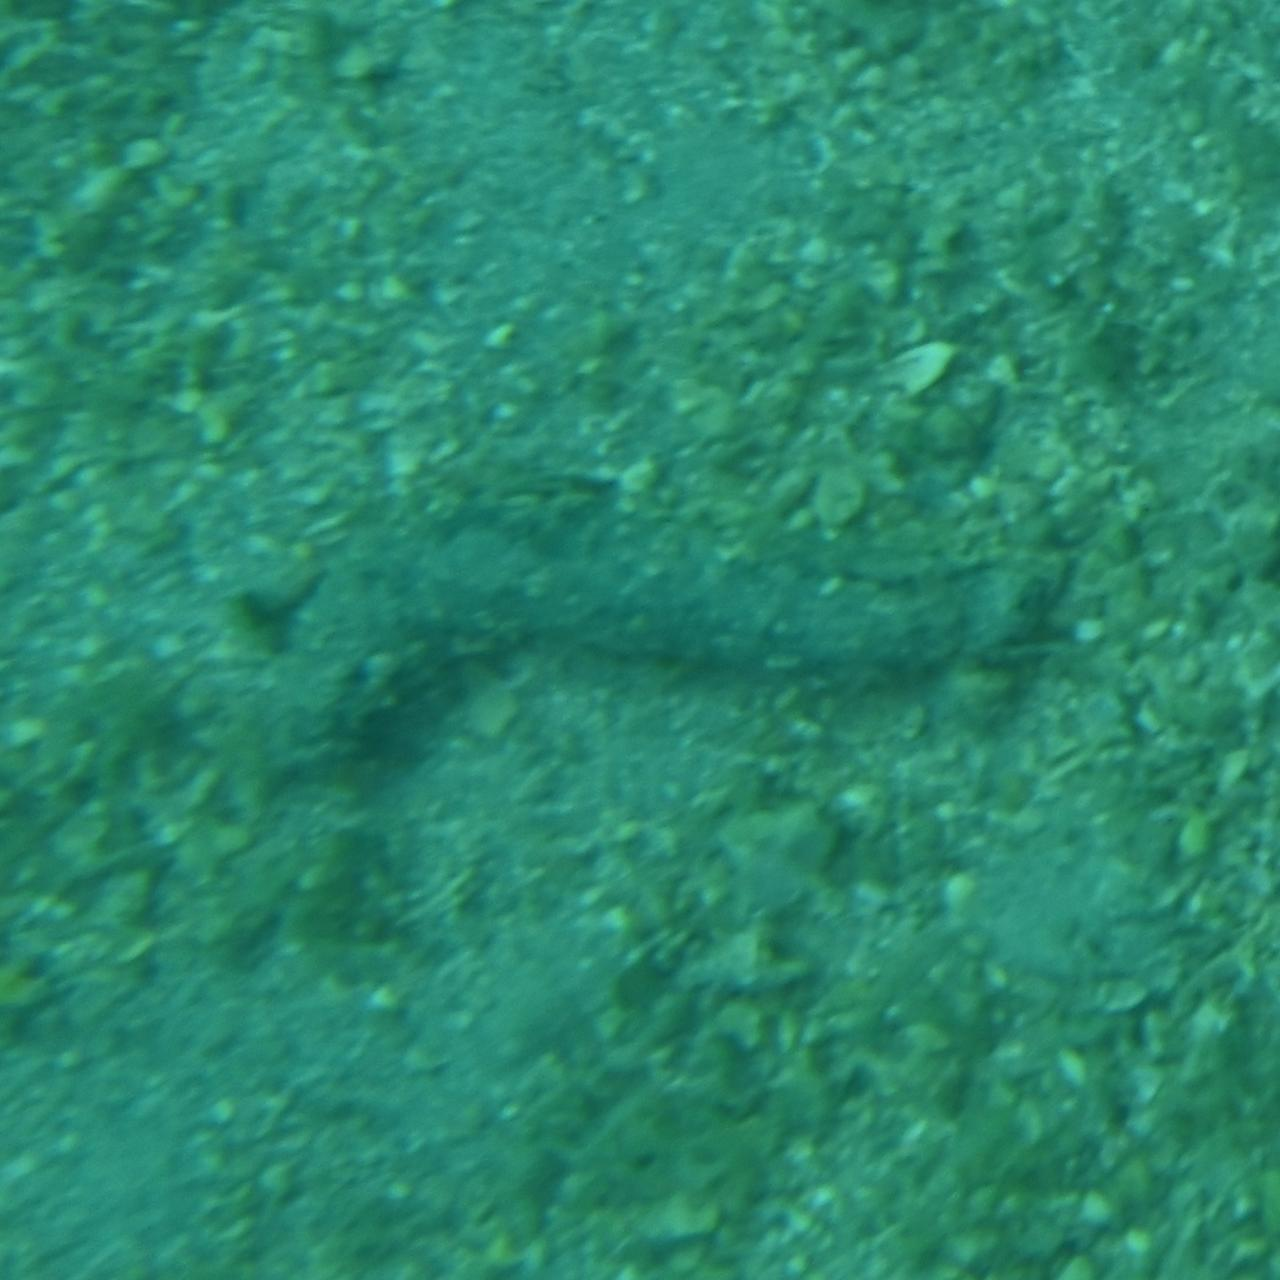Holothuria tubulosa: (215, 486, 1065, 794)
